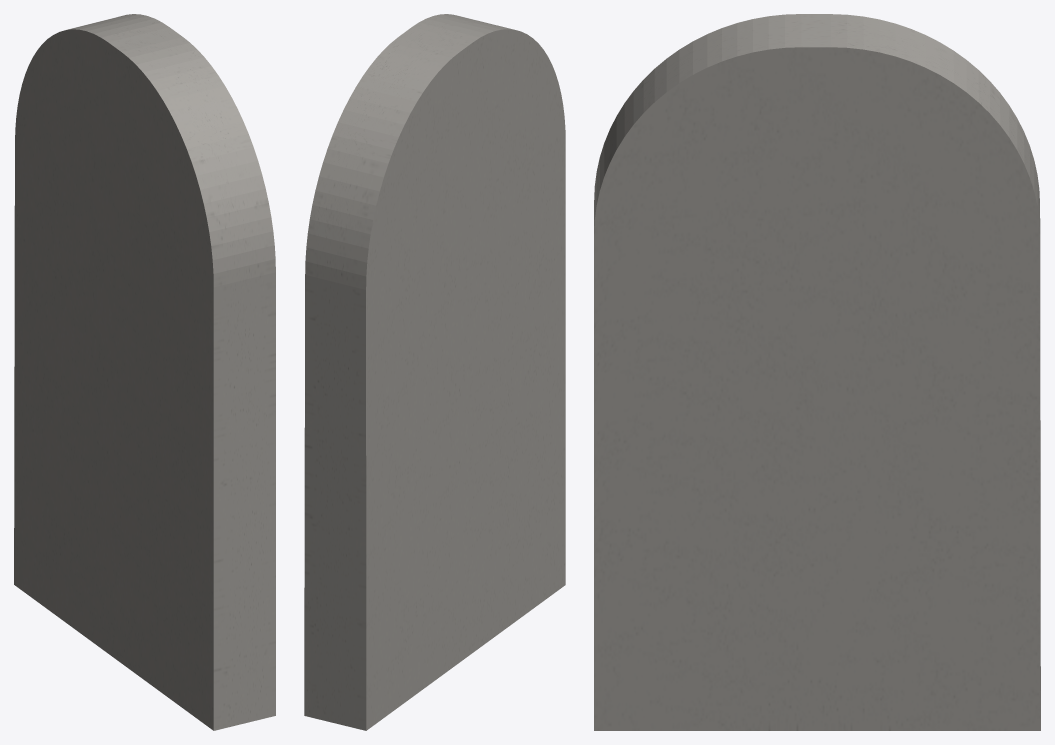
File: tombstone-jewish.glb
3 views of the same model, side by side, from view 1: azimuth 30°, elevation 25°; view 2: azimuth 150°, elevation 25°; view 3: azimuth 270°, elevation 25° (orthographic). The views are drawn at different scales.
Parts seen in each view (by area): view 1: Cube; view 2: Cube; view 3: Cube.
Boxes of the visible parts, <box> form: Cube: <box>14,14,275,730</box>; Cube: <box>304,14,565,730</box>; Cube: <box>594,14,1040,730</box>.
Bounding box in the file's own units: 0.00457 × 0.0429 × 0.0254.
1 material, 1 textured.
